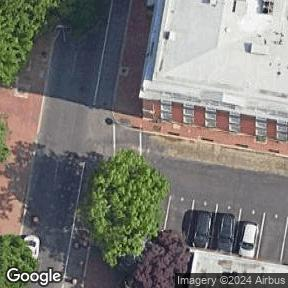vegetation: (56, 141, 188, 276), (0, 0, 93, 86), (131, 225, 195, 288), (0, 236, 37, 288), (0, 121, 9, 161)
